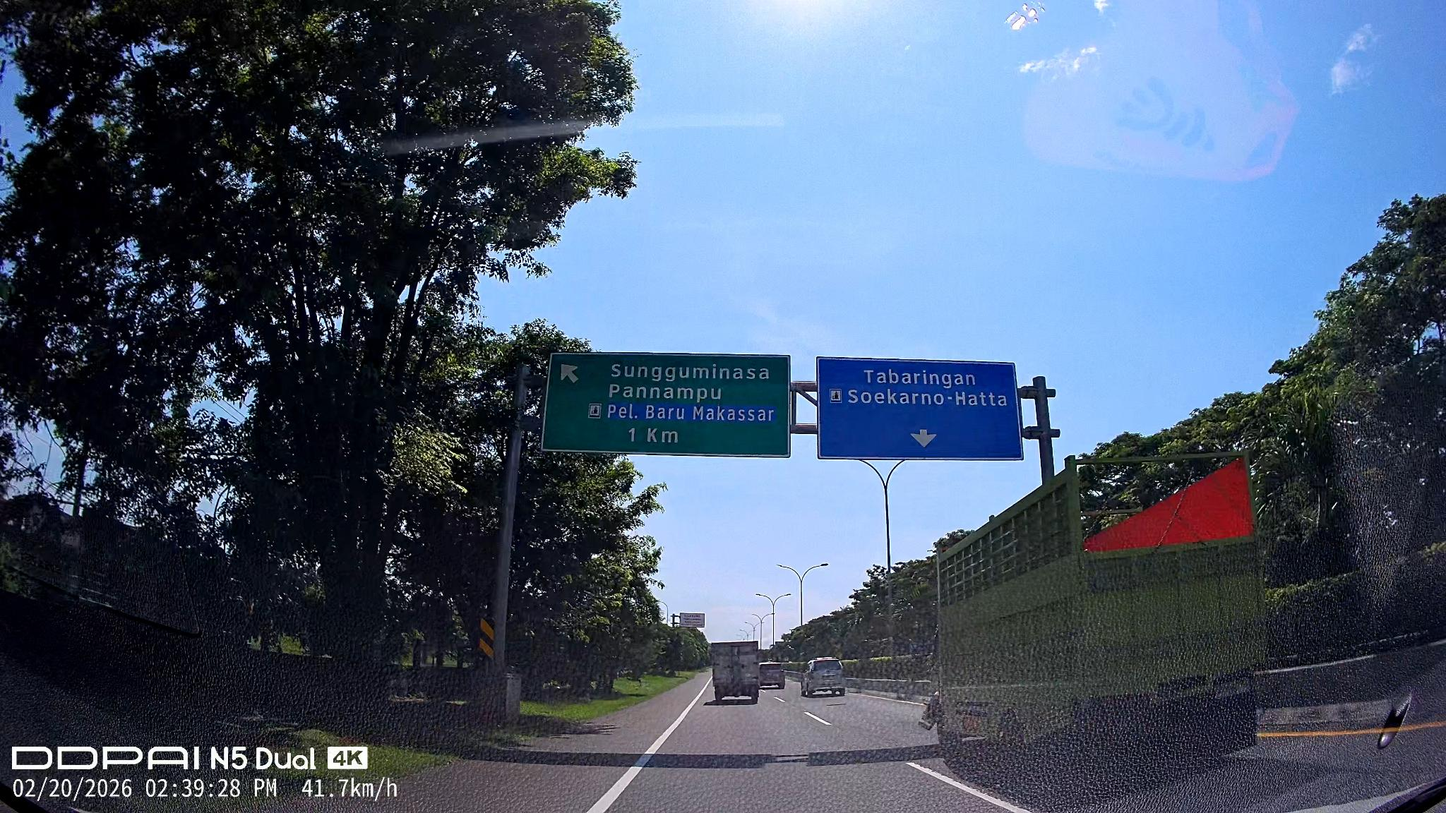rambu_teks: (538, 351, 793, 459), (813, 354, 1027, 464)
